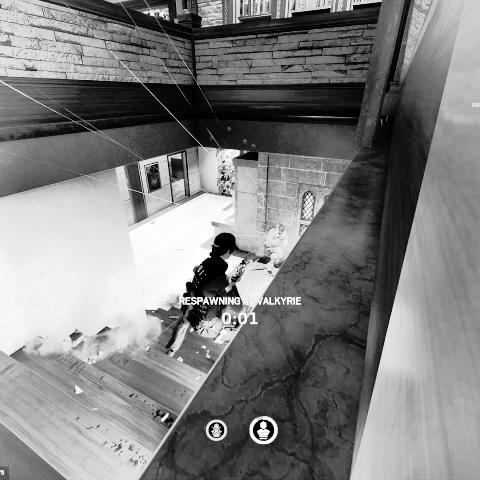Character: (164, 232, 253, 357), (262, 222, 289, 276)
Head: (212, 232, 240, 261), (277, 224, 286, 236)
